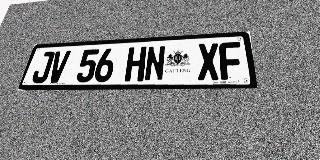5: (75, 49, 99, 82)
6: (93, 48, 117, 82)
F: (219, 42, 244, 80)
H: (124, 46, 147, 82)
J: (30, 51, 55, 83)
N: (144, 45, 166, 81)
V: (46, 50, 71, 83)
X: (198, 43, 220, 80)
